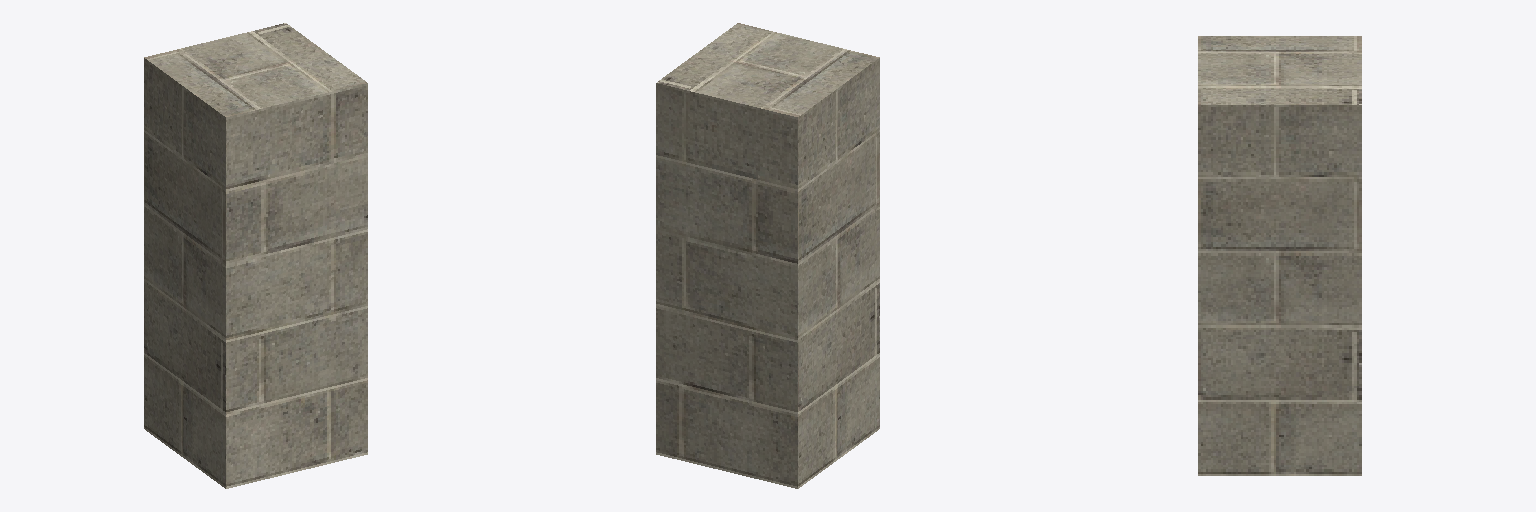
3 renders of one model, left to right at view 1: azimuth 30°, elevation 25°; view 2: azimuth 150°, elevation 25°; view 3: azimuth 270°, elevation 25°, orthographic.
Parts seen in each view (by area): view 1: Box01; view 2: Box01; view 3: Box01.
Boxes of the visible parts, box(x1,y1,x2,y2) form: Box01: box(144, 23, 367, 488); Box01: box(656, 23, 879, 488); Box01: box(1198, 36, 1361, 475).
Size of the model in its own units: 0.2 by 0.5 by 0.2.
1 materials, 1 textured.